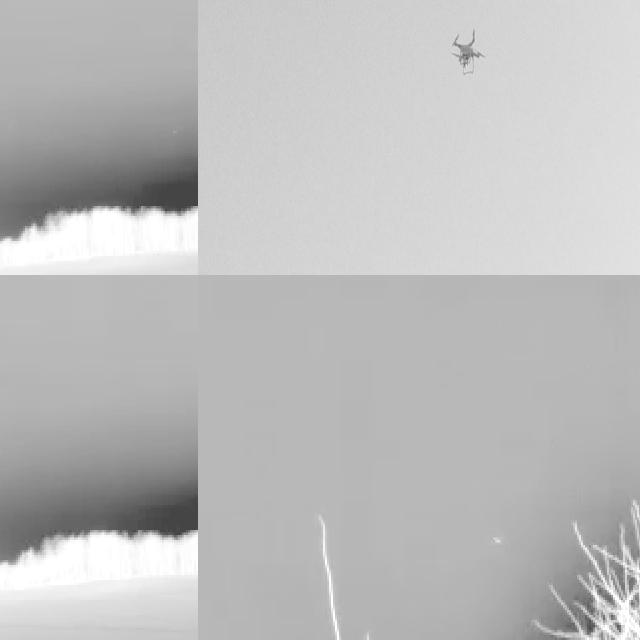0: (156, 118, 192, 154), (483, 530, 507, 560)
drone: (450, 28, 486, 80)
